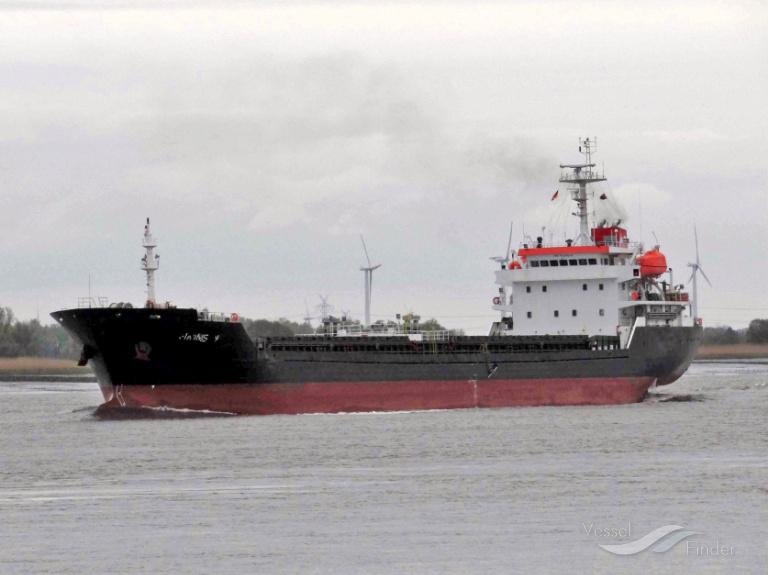OCR: (168, 322, 227, 350)
